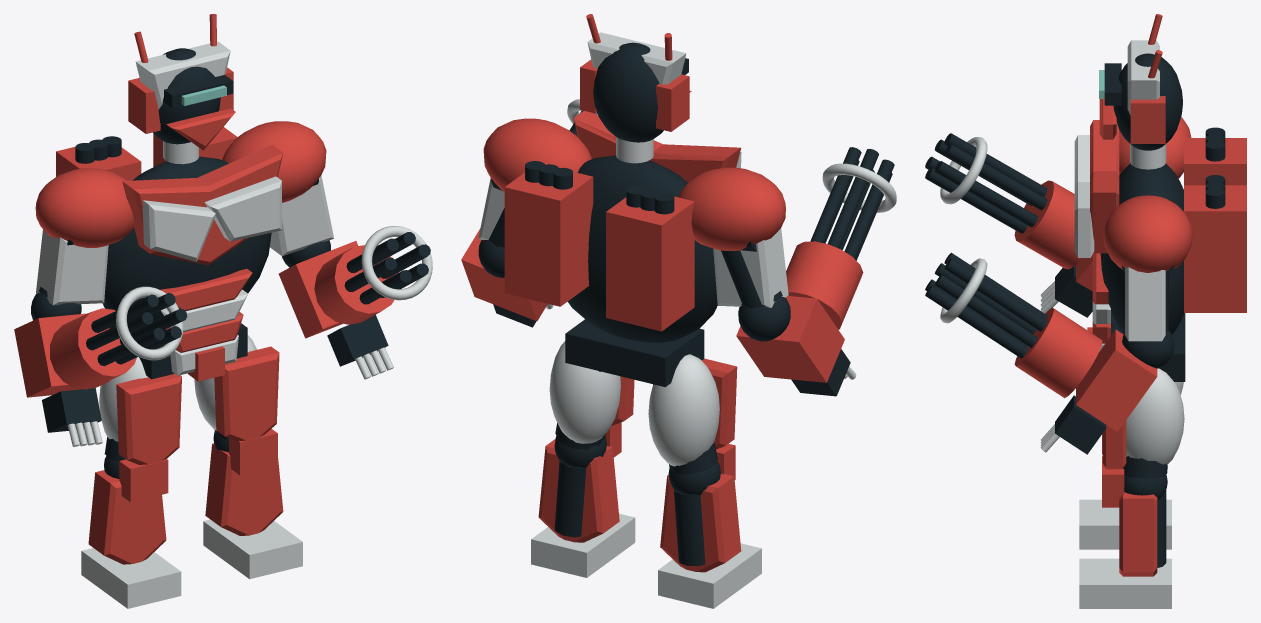
Rendered from robot-assault.glb.
The picture shows the model from 3 angles, left to right: view 1: azimuth 30°, elevation 25°; view 2: azimuth 150°, elevation 25°; view 3: azimuth 270°, elevation 25°; orthographic projection. The views are drawn at different scales.
Parts seen in each view (by area): view 1: torso, leg-left, weapon (×2), leg-right, arm-left, head, arm-right, elbow-left, elbow-right; view 2: torso, leg-left, leg-right, arm-left, head, weapon, elbow-left, arm-right, elbow-right; view 3: torso, weapon (×2), leg-right, arm-right, head, elbow-right, leg-left, elbow-left, arm-left.
Boxes of the visible parts, x1,y1,x2,y2 form: torso: (56,127,283,381); leg-left: (81,357,181,608); weapon (×2): (49,226,432,389); leg-right: (194,335,302,579); arm-left: (35,168,133,305); head: (128,14,235,164); arm-right: (222,121,333,256); elbow-left: (14,292,111,446); elbow-right: (278,240,393,379); torso: (504,111,741,387); leg-left: (648,354,761,608); leg-right: (531,341,635,577); arm-left: (678,167,788,308); head: (580,14,691,163); weapon: (786,147,896,329); elbow-left: (736,296,856,396); arm-right: (478,118,592,247); elbow-right: (461,228,553,327); torso: (1074,120,1246,381); weapon (×2): (925,133,1102,398); leg-right: (1079,368,1184,608); arm-right: (1103,195,1192,341); head: (1099,14,1182,169); elbow-right: (1040,329,1174,454); leg-left: (1079,382,1183,549); elbow-left: (1040,255,1092,317); arm-left: (1119,116,1191,178).
Bounding box in the file's own units: 2.78 × 4.2 × 2.3.
